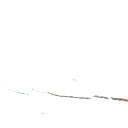crackTip: (4, 82, 128, 111)
